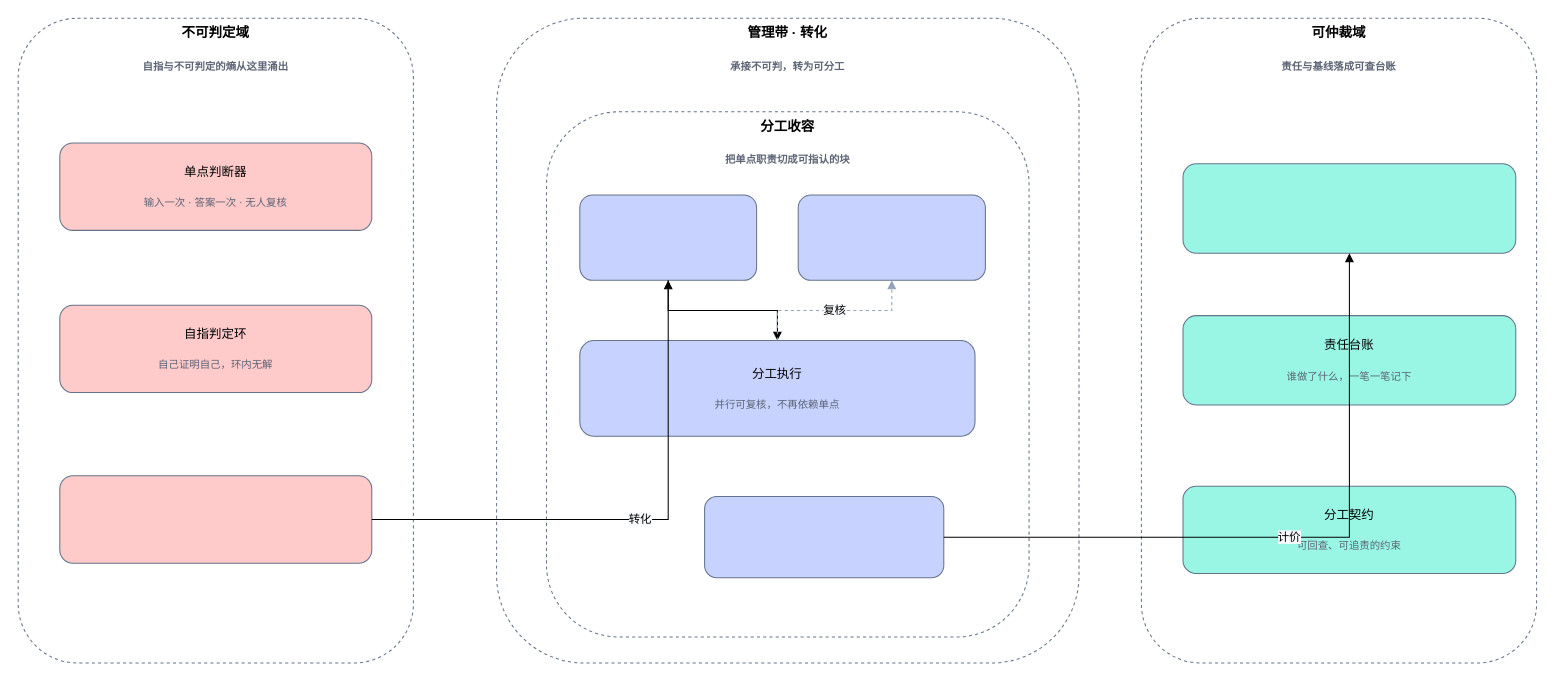
This 1555x681 diagram has some shape labels left out. Each missing label, with the centre of its shape:
仲裁基线 可复现的裁断标准: point (1349, 208)
复核回流 结果回头再校验: point (824, 537)
归口裁决 每一步都有人为结果负责: point (891, 237)
拆判 把大判断拆成小步: point (668, 237)
熵·两重起源 单点失效 + 无法追溯: point (215, 519)
